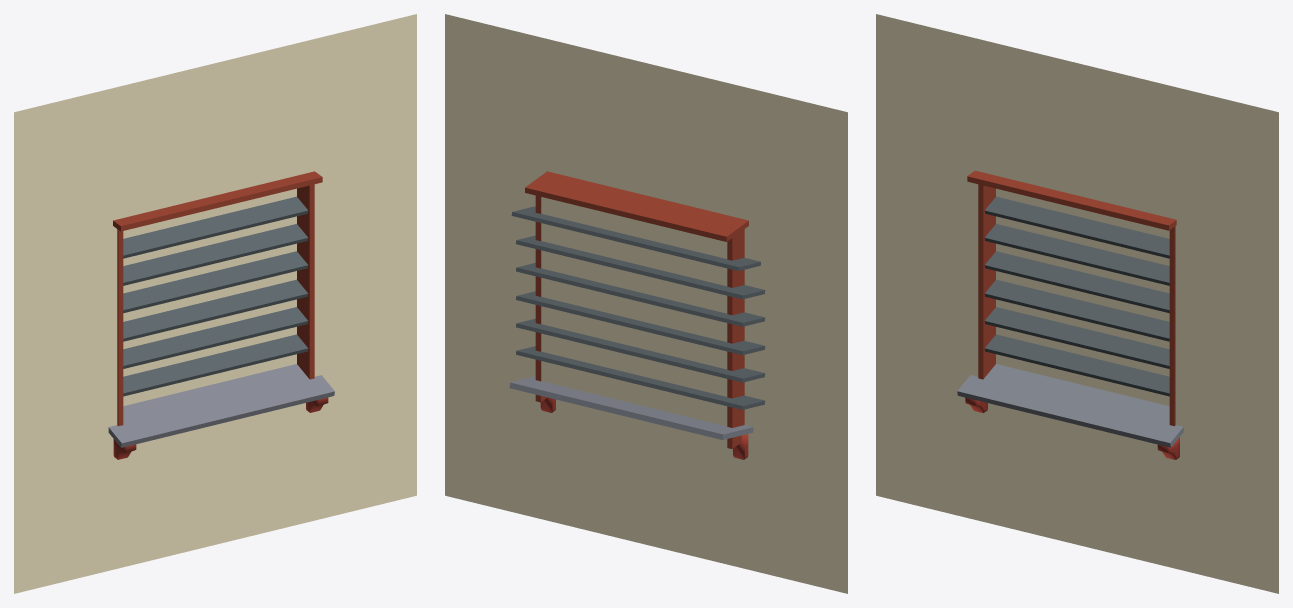
Rendered from MDL_Store_Inside.fbx.
The picture shows the model from 3 angles, left to right: view 1: azimuth 30°, elevation 25°; view 2: azimuth 150°, elevation 25°; view 3: azimuth 330°, elevation 25°; orthographic projection.
Visible parts, largest first — view 1: Plane; view 2: Plane; view 3: Plane.
Part boxes in pixels (x1,y1,x2,y2): Plane: (14, 14, 416, 593); Plane: (445, 14, 847, 593); Plane: (876, 14, 1278, 593).
Bounding box in the file's own units: 350 × 400 × 66.61.
